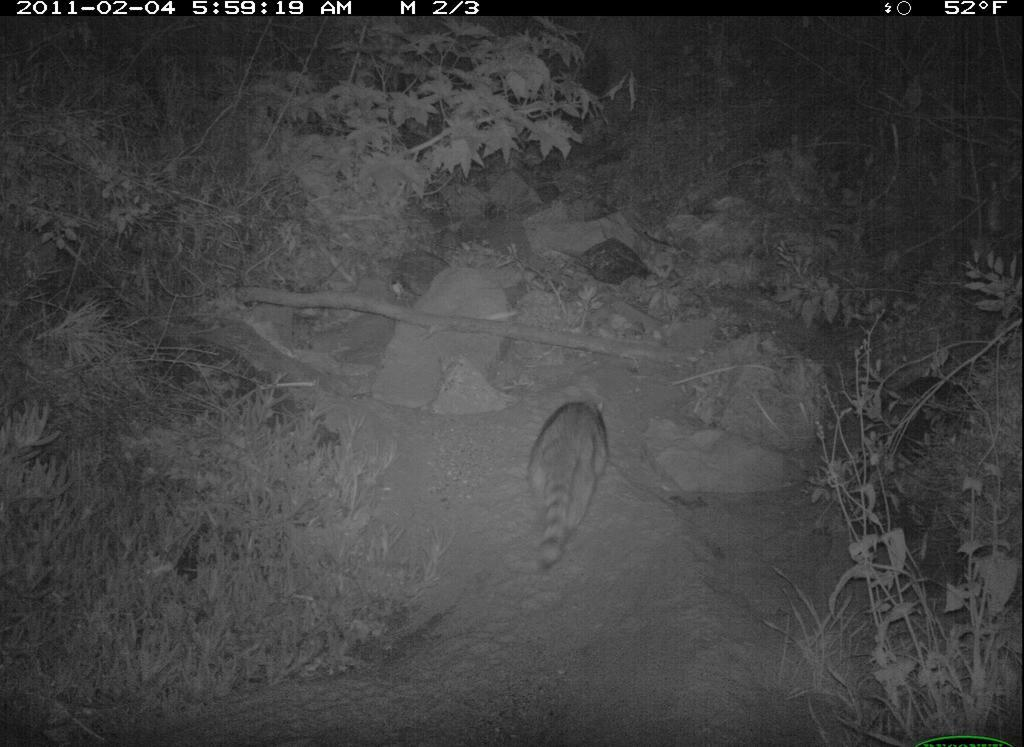raccoon: (529, 385, 611, 577)
